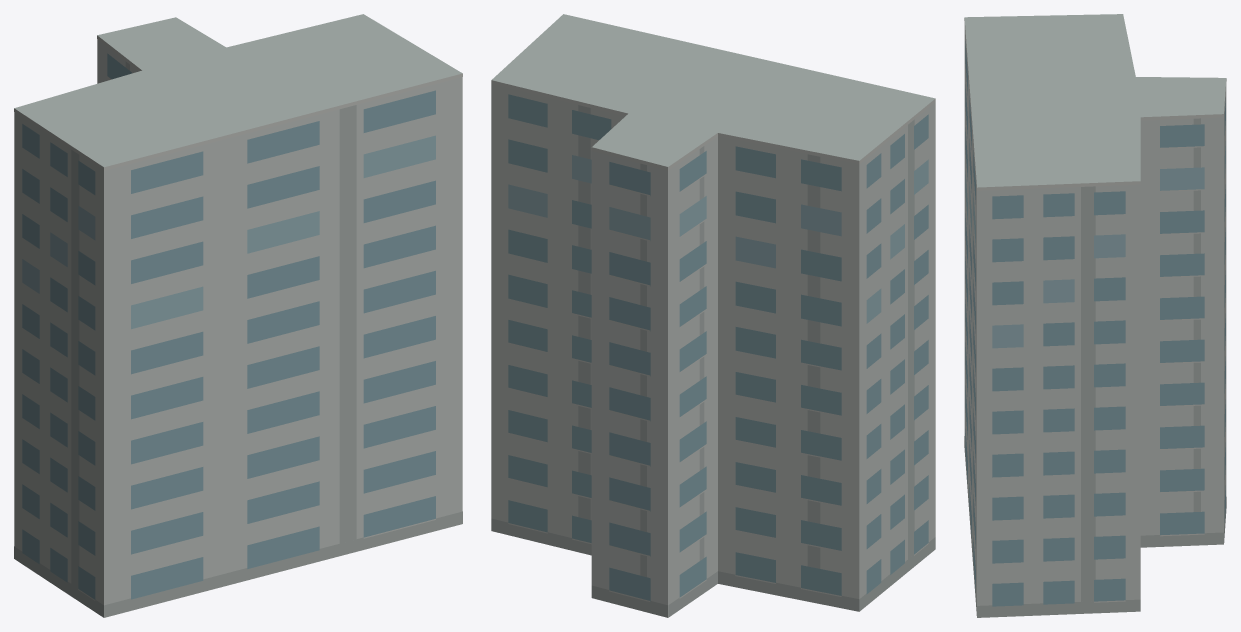
File: residential-fc690cff-b287-4e39-8893-b97785803fc5.glb
3 views of the same model, side by side, from view 1: azimuth 30°, elevation 25°; view 2: azimuth 150°, elevation 25°; view 3: azimuth 270°, elevation 25° (orthographic). The views are drawn at different scales.
Visible parts, largest first — view 1: residential-fc690cff-b287-4e39-8893-b97785803fc5.tmp; view 2: residential-fc690cff-b287-4e39-8893-b97785803fc5.tmp; view 3: residential-fc690cff-b287-4e39-8893-b97785803fc5.tmp.
Part boxes in pixels (<box>): residential-fc690cff-b287-4e39-8893-b97785803fc5.tmp: <box>14,14,462,617</box>; residential-fc690cff-b287-4e39-8893-b97785803fc5.tmp: <box>491,14,935,617</box>; residential-fc690cff-b287-4e39-8893-b97785803fc5.tmp: <box>964,14,1226,617</box>.
Bounding box in the file's own units: 25.94 × 30 × 16.55.
